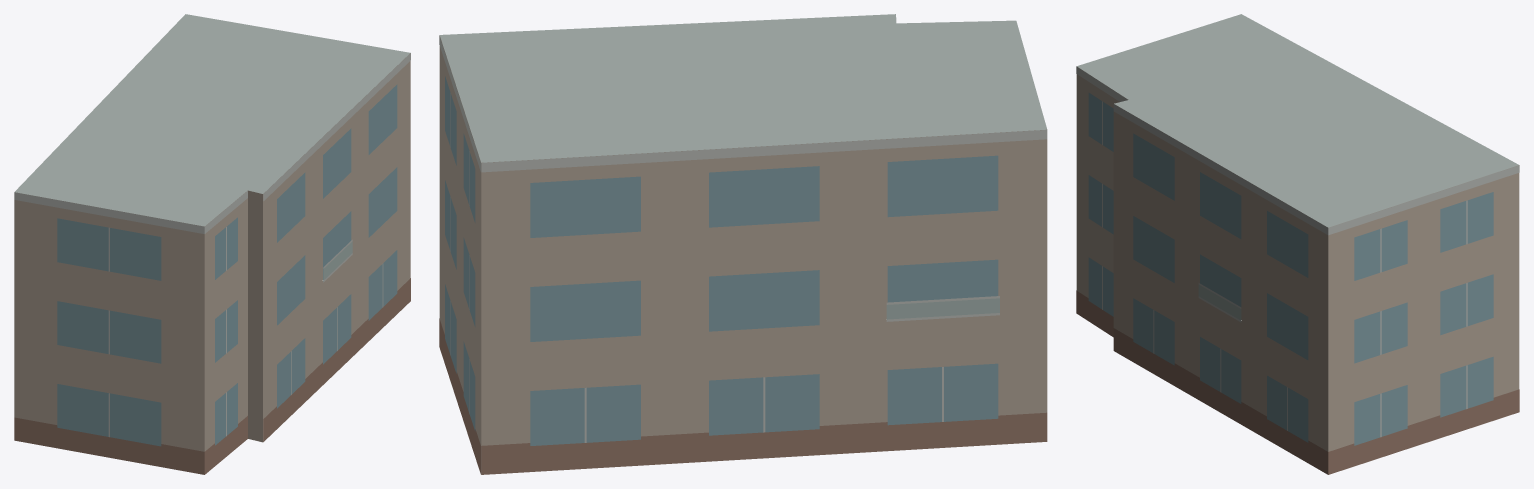
File: survey-upis-33023253.glb
The picture shows the model from 3 angles, left to right: view 1: azimuth 30°, elevation 25°; view 2: azimuth 150°, elevation 25°; view 3: azimuth 270°, elevation 25°; orthographic projection. The views are drawn at different scales.
Visible parts, largest first — view 1: survey-upis-33023253.tmp; view 2: survey-upis-33023253.tmp; view 3: survey-upis-33023253.tmp.
Part boxes in pixels (x1,y1,x2,y2): survey-upis-33023253.tmp: (14,14,410,474); survey-upis-33023253.tmp: (439,14,1047,474); survey-upis-33023253.tmp: (1076,14,1519,474).
Bounding box in the file's own units: 14.66 × 7.9 × 12.84.
